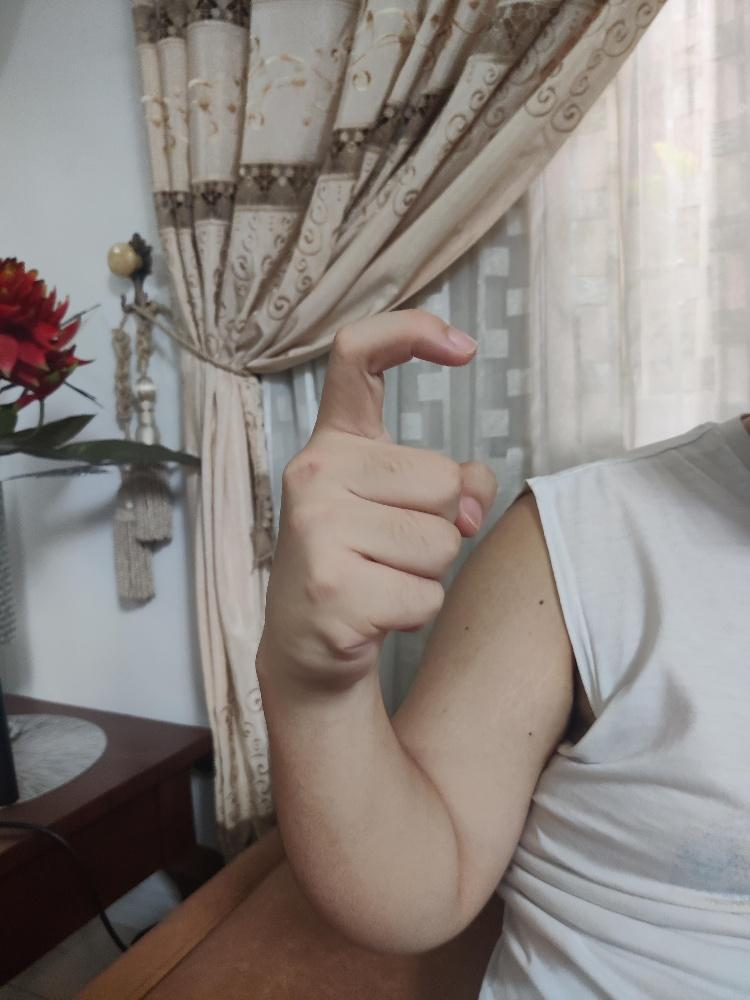x: (265, 305, 500, 696)
